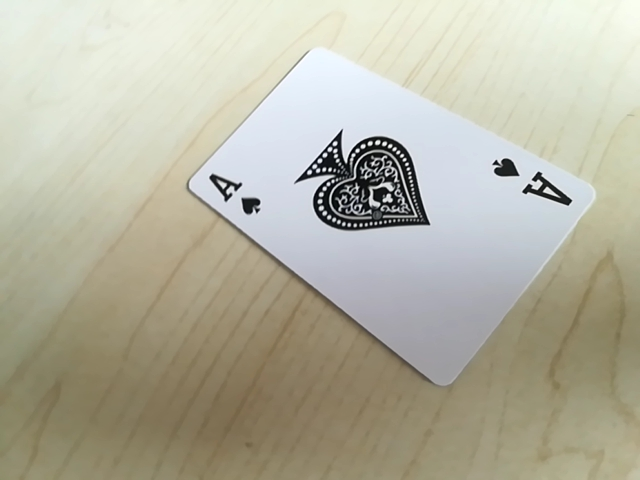ht a: (485, 151, 574, 213), (192, 173, 270, 224)
